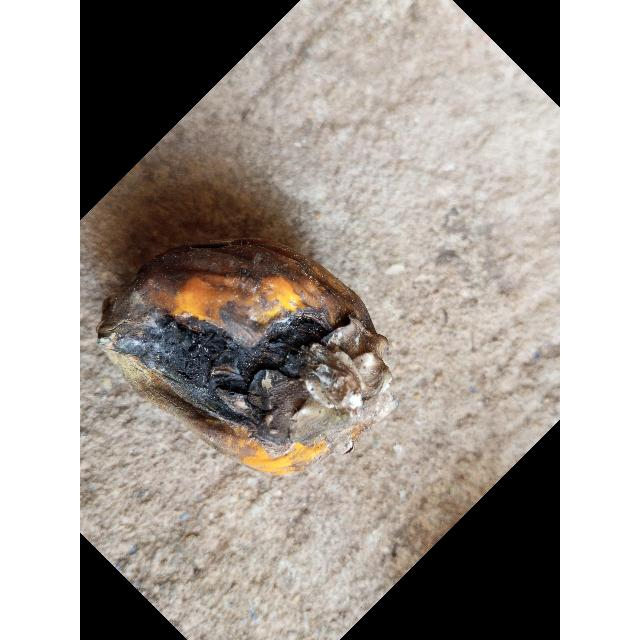damaged: (98, 239, 391, 463)
